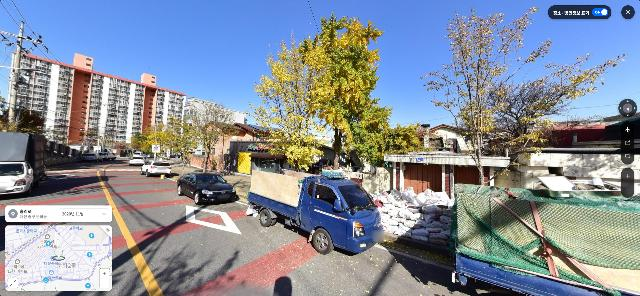ginkgo: (420, 6, 628, 187), (250, 27, 335, 173), (143, 123, 195, 169)
other: (299, 13, 392, 168), (349, 105, 427, 172), (175, 96, 241, 172)
